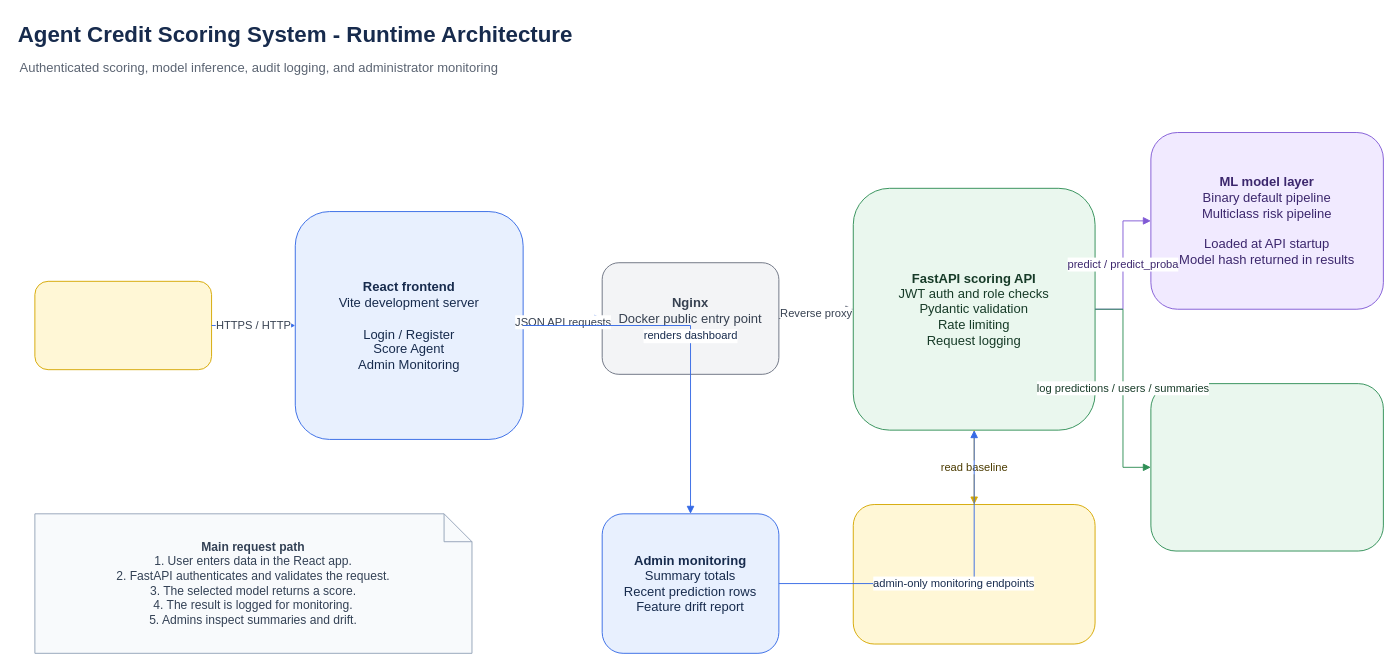
Some shapes in this 1400 by 670 pixel diagram are drawn without their labels. Here are the shapes that lost their labels. From the top down, the box of each, then its label:
(34, 280, 212, 370): Browser Agent or administrator
(1150, 383, 1383, 551): Prediction database PostgreSQL in Docker SQLite local fallback users predictions
(852, 504, 1095, 644): Training metadata models/metadata.json Feature baseline Metrics and occupations
